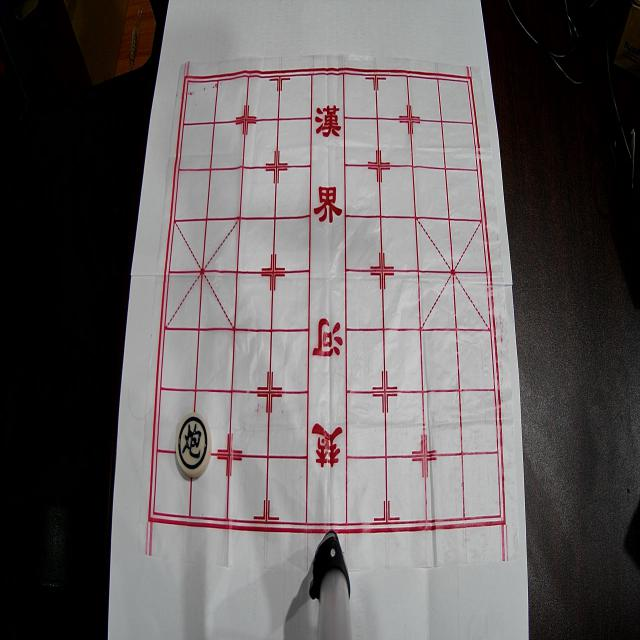black-cannon: (176, 412, 212, 478)
